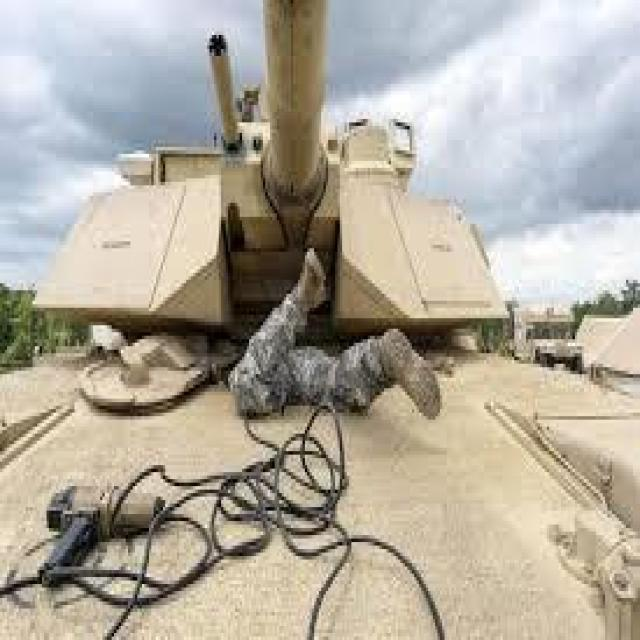MIL_MBT: (23, 77, 635, 630)
